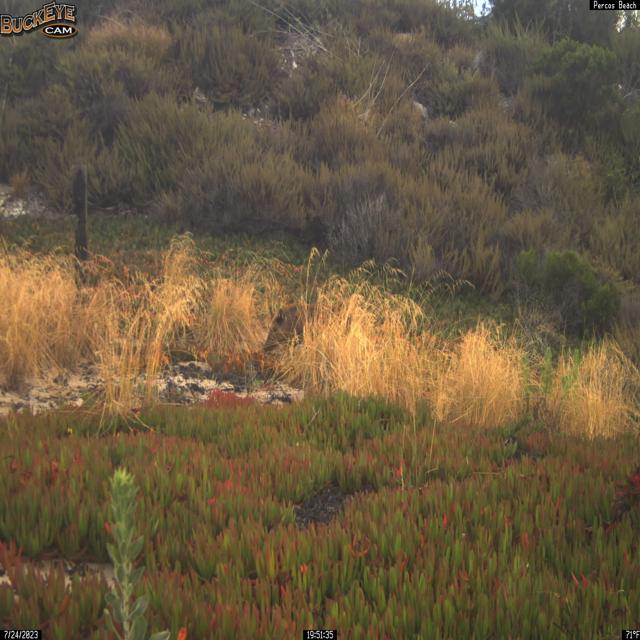pig: (262, 295, 357, 355)
